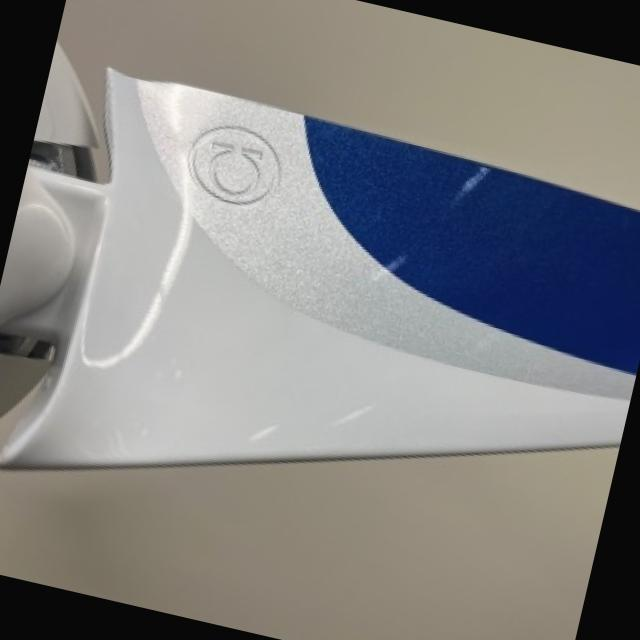healthy: (0, 68, 640, 466), (0, 352, 617, 640)
